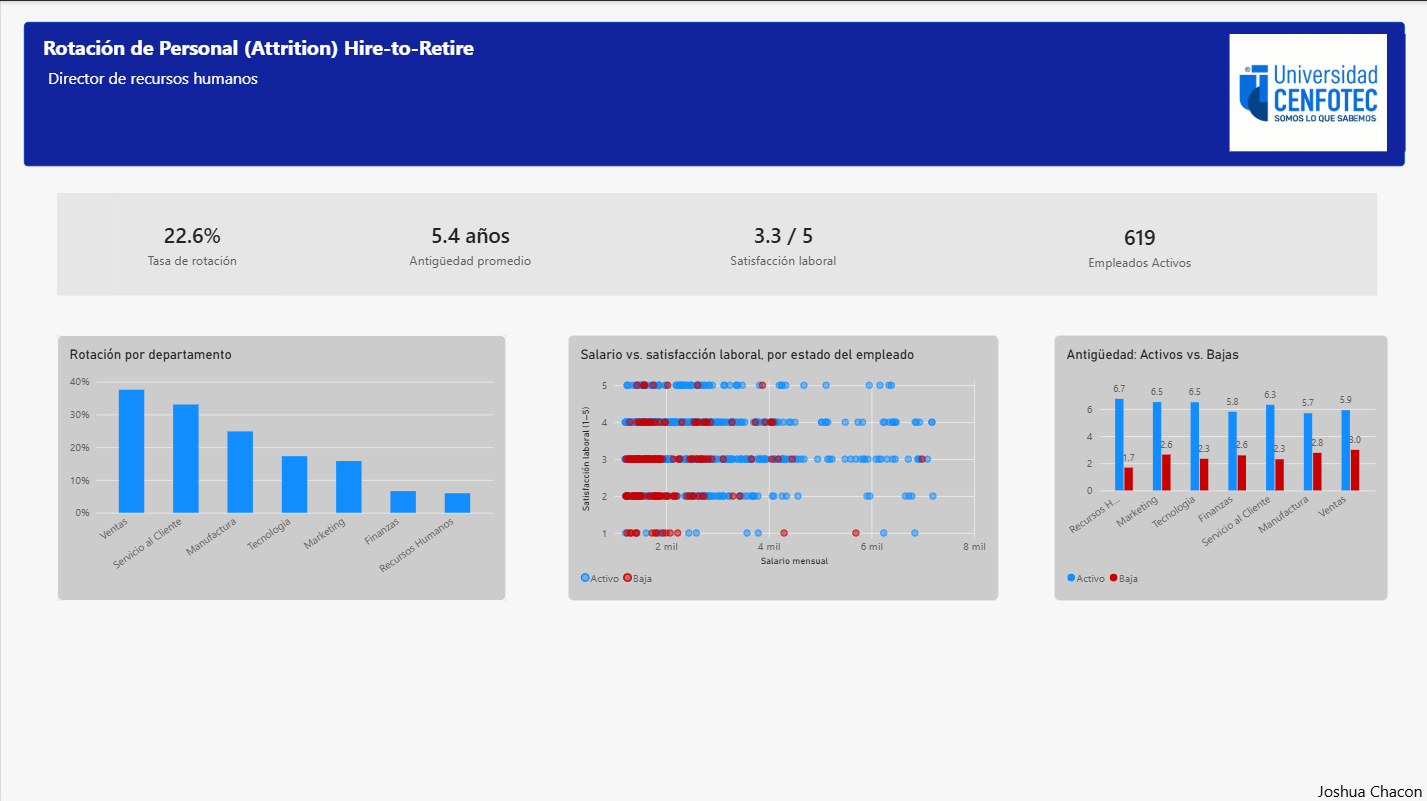

The page's visual inventory and layout, read from the dashboard file:
{"tool":"powerbi","page":{"name":"Dashboard Rotación de Personal","canvas":[1920,1080],"ordinal":0},"visuals":[{"type":"shape","box":[75,258.3,1778.3,138.3],"z":0},{"type":"shape","box":[30,26.7,1861.7,196.7],"z":1000},{"type":"card","fields":{"Values":["Departamentos.Empleados Activos"]},"box":[1436.7,263.3,193.3,133.3],"z":2000},{"type":"card","fields":{"Values":["Departamentos.Antiguedad Tarjeta"]},"box":[481.7,258.3,300,138.3],"z":3000},{"type":"card","title":"hjhkj","fields":{"Values":["Departamentos.Satisfaccion Promedio"]},"box":[916.7,258.3,273.3,138.3],"z":4000},{"type":"textbox","box":[50,43.3,593.3,61.7],"z":6000},{"type":"shape","box":[75,450,605,358.3],"z":7000},{"type":"columnChart","title":"Rotación por departamento","fields":{"Category":["Departamentos.nombre_departamento"],"Y":["Departamentos.Tasa Rotacion"]},"box":[75,450,605,358.3],"z":8000},{"type":"clusteredColumnChart","title":"Antigüedad: Activos vs. Bajas","fields":{"Category":["Departamentos.nombre_departamento"],"Series":["Empleados.estado"],"Y":["Departamentos.Antiguedad Promedio"]},"box":[1418.3,450,450,358.3],"z":10000},{"type":"textbox","box":[63.3,88.9,605,70],"z":11000},{"type":"image","box":[1630,45,261.7,158.3],"z":12000},{"type":"scatterChart","title":"Salario vs. satisfacción laboral, por estado del empleado","fields":{"Category":["Empleados.empleado_id"],"Series":["Empleados.estado"],"X":["Avg(Empleados.salario_mensual)"],"Y":["Avg(Empleados.satisfaccion_laboral)"]},"box":[763.3,450,580,358.3],"z":13001},{"type":"card","fields":{"Values":["Departamentos.Tasa Rotacion"]},"box":[150,258.3,216.7,138.3],"z":13003},{"type":"textbox","box":[1773.5,1049,146.8,31],"z":13004}]}

Visuals, with their boxes in screenshot pixels (x1, y1, x2, y2), scaled from the page's 1920x1080 canvas onto the 1427x801 screenshot:
shape: [left=56, top=192, right=1377, bottom=294]
shape: [left=22, top=20, right=1406, bottom=166]
card - Departamentos.Empleados Activos: [left=1068, top=195, right=1211, bottom=294]
card - Departamentos.Antiguedad Tarjeta: [left=358, top=192, right=581, bottom=294]
"hjhkj" card: [left=681, top=192, right=884, bottom=294]
textbox: [left=37, top=32, right=478, bottom=78]
shape: [left=56, top=334, right=505, bottom=599]
"Rotación por departamento" columnChart: [left=56, top=334, right=505, bottom=599]
"Antigüedad: Activos vs. Bajas" clusteredColumnChart: [left=1054, top=334, right=1389, bottom=599]
textbox: [left=47, top=66, right=497, bottom=118]
image: [left=1211, top=33, right=1406, bottom=151]
"Salario vs. satisfacción laboral, por estado del empleado" scatterChart: [left=567, top=334, right=998, bottom=599]
card - Departamentos.Tasa Rotacion: [left=111, top=192, right=273, bottom=294]
textbox: [left=1318, top=778, right=1426, bottom=800]
